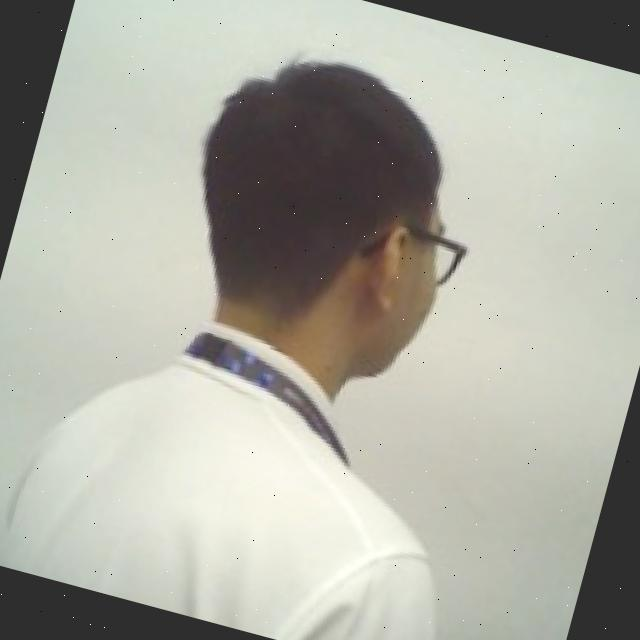no_gloves: (144, 15, 484, 379)
